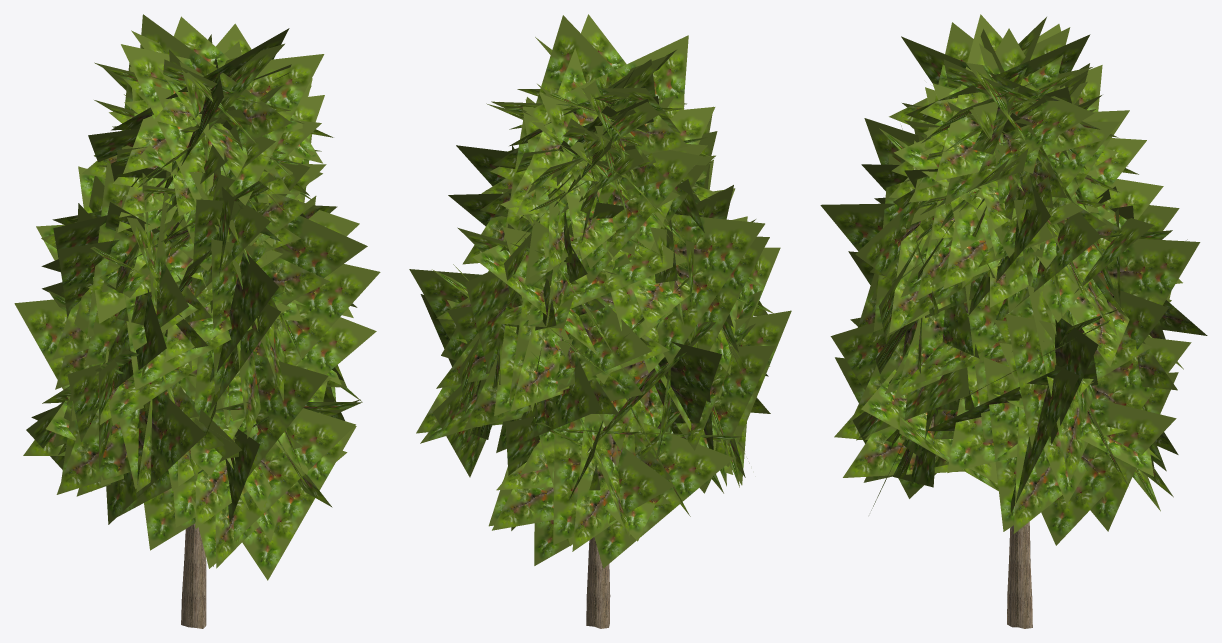
The model's file is Liquidambar_Styraciflua_Spring_Young.glb.
The picture shows the model from 3 angles, left to right: view 1: azimuth 30°, elevation 25°; view 2: azimuth 150°, elevation 25°; view 3: azimuth 270°, elevation 25°; orthographic projection. The views are drawn at different scales.
Parts seen in each view (by area): view 1: Liquidambar_Styraciflua_Spring_Young__LOD3; view 2: Liquidambar_Styraciflua_Spring_Young__LOD3; view 3: Liquidambar_Styraciflua_Spring_Young__LOD3.
Boxes of the visible parts, box(x1,y1,x2,y2) form: Liquidambar_Styraciflua_Spring_Young__LOD3: box(14, 14, 380, 628); Liquidambar_Styraciflua_Spring_Young__LOD3: box(409, 14, 791, 628); Liquidambar_Styraciflua_Spring_Young__LOD3: box(820, 14, 1207, 628).
Size of the model in its own units: 4.44 by 8.01 by 4.75.
2 materials, 2 textured.
